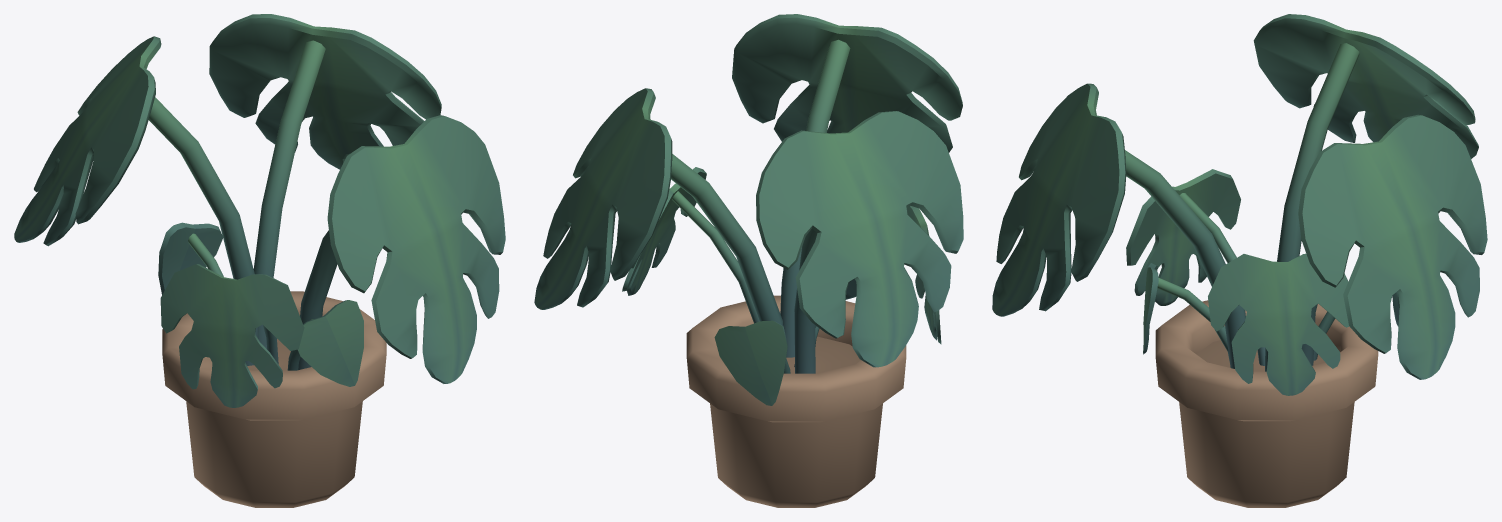
File: kit_plant_monstera.glb
3 renders of one model, left to right at view 1: azimuth 30°, elevation 25°; view 2: azimuth 150°, elevation 25°; view 3: azimuth 270°, elevation 25°, orthographic. The views are drawn at different scales.
Visible parts, largest first — view 1: monstera_plant_medium_potted; view 2: monstera_plant_medium_potted; view 3: monstera_plant_medium_potted.
Part boxes in pixels (bbox=[...]): monstera_plant_medium_potted: bbox=[14, 14, 505, 507]; monstera_plant_medium_potted: bbox=[534, 14, 963, 507]; monstera_plant_medium_potted: bbox=[992, 14, 1487, 507].
Size of the model in its own units: 1.01 by 1.02 by 1.11.
1 material, 1 textured.
